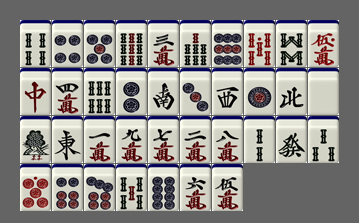0m: (308, 20, 339, 67)
0p: (20, 164, 51, 211)
0s: (244, 20, 275, 67)
1m: (84, 116, 115, 163)
1p: (244, 68, 275, 115)
1s: (20, 116, 51, 163)
1z: (52, 116, 83, 163)
2m: (180, 116, 211, 163)
2p: (116, 68, 147, 115)
2s: (244, 116, 275, 163)
2z: (148, 68, 179, 115)
3m: (148, 20, 179, 67)
3p: (180, 68, 211, 115)
3s: (308, 116, 339, 163)
3z: (212, 68, 243, 115)
4m: (52, 68, 83, 115)
4p: (52, 20, 83, 67)
4s: (20, 20, 51, 67)
4z: (276, 68, 307, 115)
5m: (212, 164, 243, 211)
5p: (84, 20, 115, 67)
5s: (116, 164, 147, 211)
5z: (308, 68, 339, 115)
6m: (180, 164, 211, 211)
6p: (52, 164, 83, 211)
6s: (84, 68, 115, 115)
6z: (276, 116, 307, 163)
7m: (148, 116, 179, 163)
7p: (84, 164, 115, 211)
7s: (180, 20, 211, 67)
7z: (20, 68, 51, 115)
8m: (212, 116, 243, 163)
8p: (148, 164, 179, 211)
8s: (276, 20, 307, 67)
9m: (116, 116, 147, 163)
9p: (212, 20, 243, 67)
9s: (116, 20, 147, 67)
